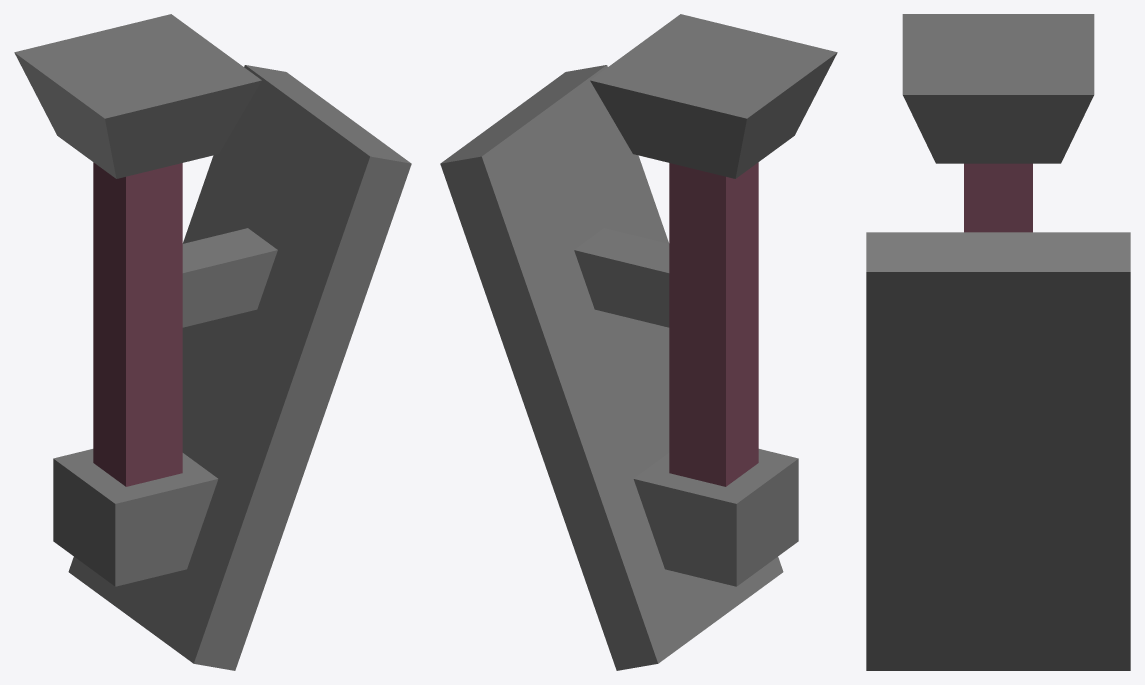
File: wall_torch_01.fbx
3 views of the same model, side by side, from view 1: azimuth 30°, elevation 25°; view 2: azimuth 150°, elevation 25°; view 3: azimuth 270°, elevation 25° (orthographic). The views are drawn at different scales.
Visible parts, largest first — view 1: wall_torch_01; view 2: wall_torch_01; view 3: wall_torch_01.
Boxes of the visible parts, x1,y1,x2,y2 form: wall_torch_01: (14,14,411,670); wall_torch_01: (440,14,837,670); wall_torch_01: (866,14,1130,670).
Size of the model in its own units: 36.06 by 67.49 by 27.03.
